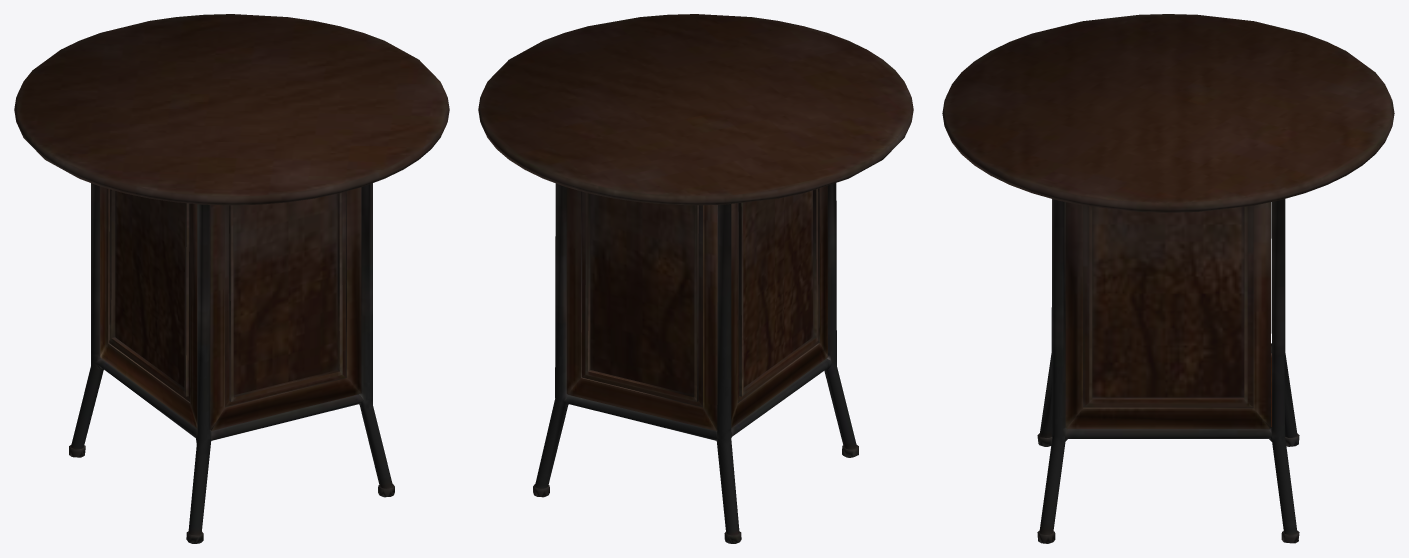
Rendered from round_wooden_table_02.gltf.
The picture shows the model from 3 angles, left to right: view 1: azimuth 30°, elevation 25°; view 2: azimuth 150°, elevation 25°; view 3: azimuth 270°, elevation 25°; orthographic projection. The views are drawn at different scales.
Parts seen in each view (by area): view 1: round_wooden_table_02; view 2: round_wooden_table_02; view 3: round_wooden_table_02.
Boxes of the visible parts, box(x1,y1,x2,y2) form: round_wooden_table_02: box(14, 14, 449, 543); round_wooden_table_02: box(478, 14, 913, 543); round_wooden_table_02: box(942, 14, 1394, 543).
Size of the model in its own units: 0.7962 by 0.7451 by 0.7962.
Materials: 1 (1 with a texture image).
